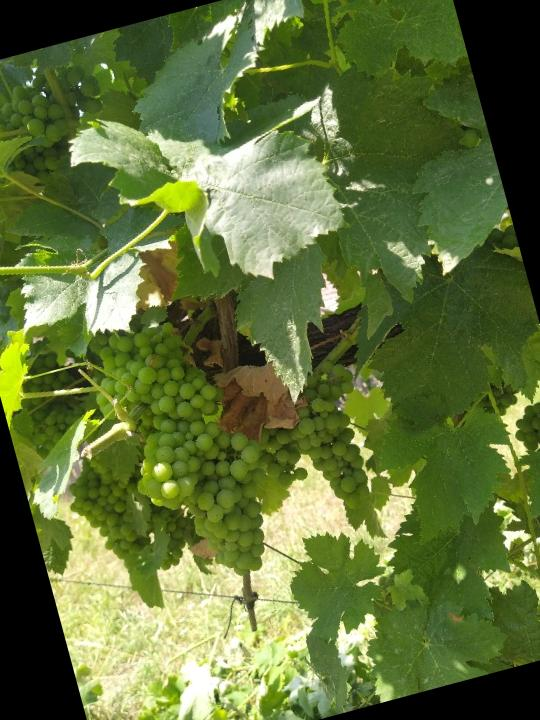grape: (119, 396, 295, 599), (253, 351, 389, 528), (85, 308, 230, 443)
